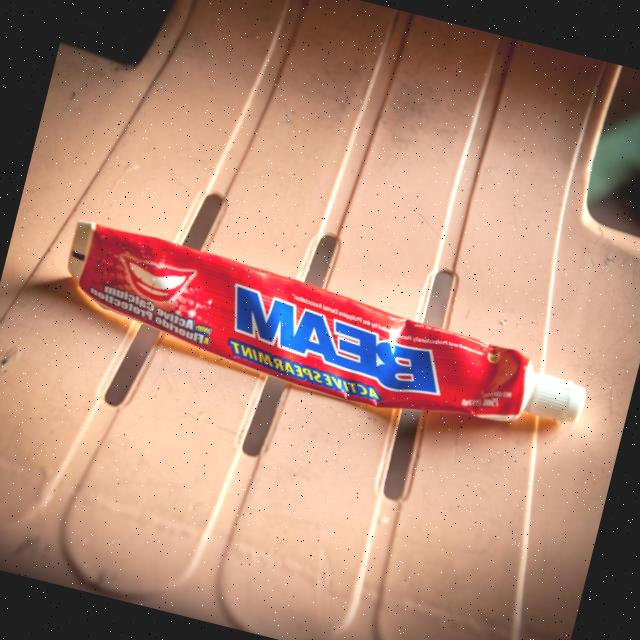Toothpaste: (34, 210, 610, 462)
